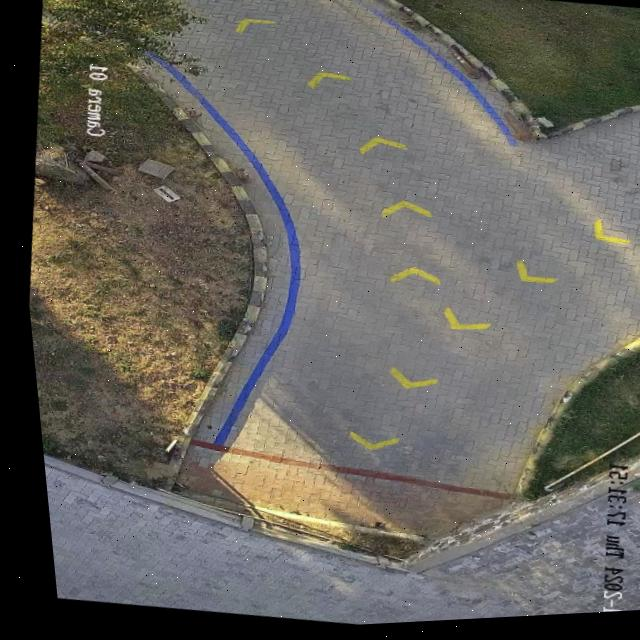No Car: (23, 0, 640, 628)
